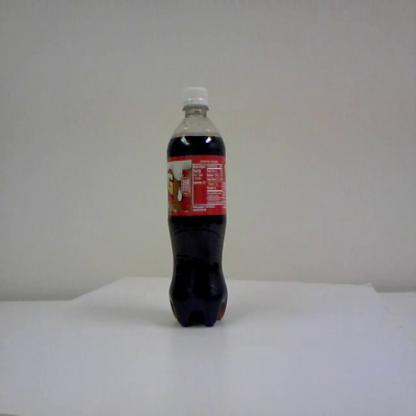bottle: (162, 84, 229, 331)
